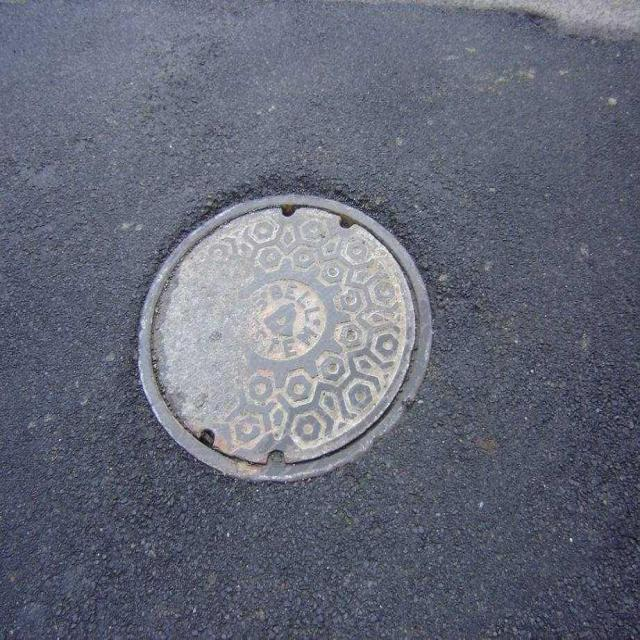manhole: (140, 195, 431, 480)
